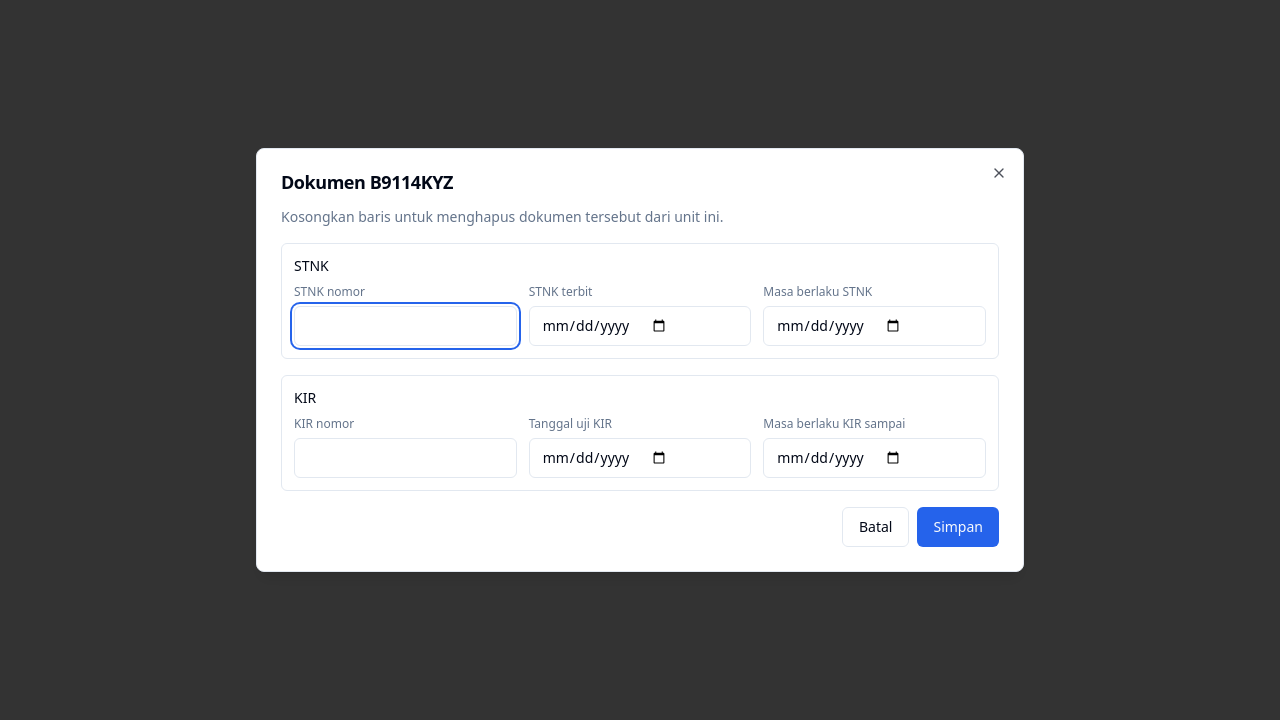
Scenario: VehicleDocumentsDialog › stays open when the save fails
The image size is (1280, 720).
Click the button "Simpan".
click(958, 527)  # box [918, 507, 999, 547]
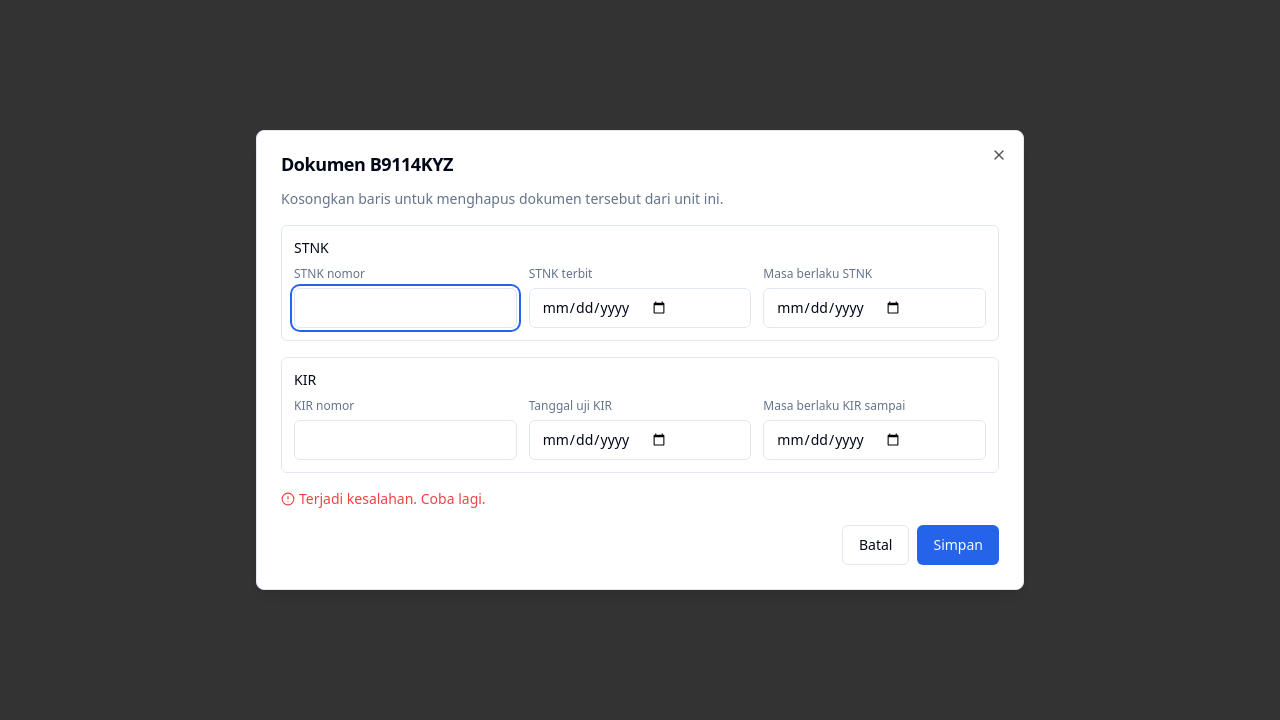
Check: the text "Terjadi kesalahan. Coba lagi." is shown, box [281, 489, 486, 508]
